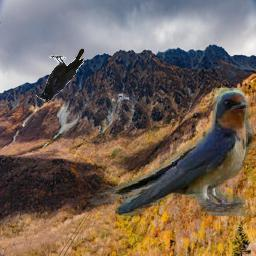Crow: (36, 48, 85, 102)
Swallow: (88, 88, 254, 216)
